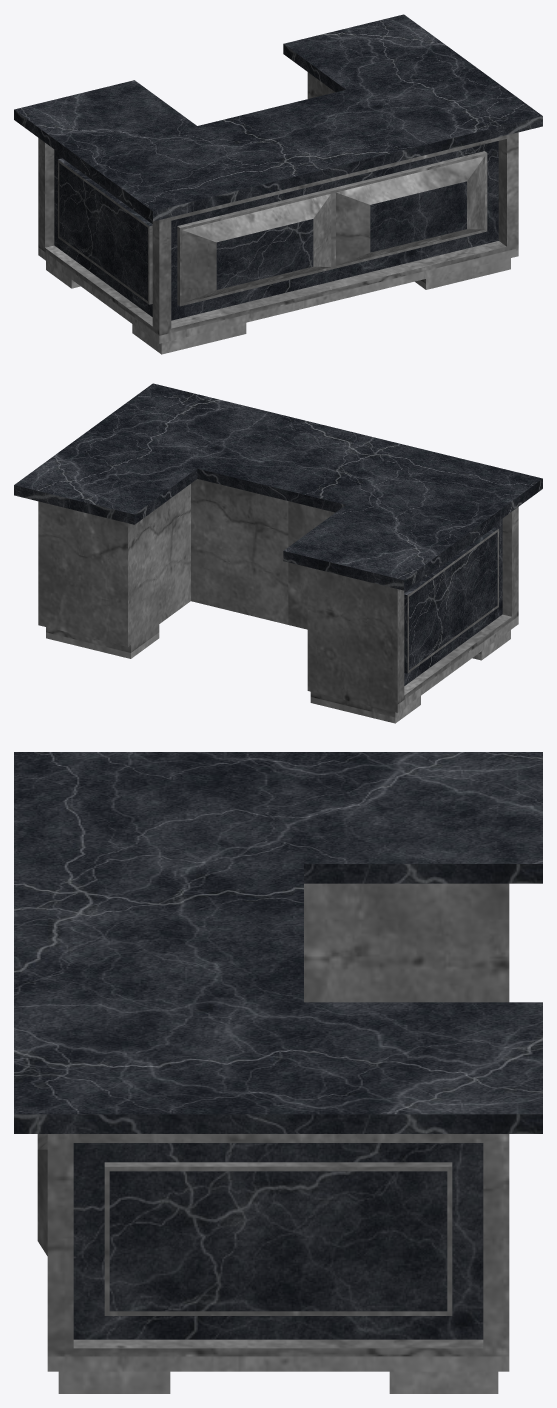
The model's file is desk.fbx.
3 renders of one model, top to bottom at view 1: azimuth 30°, elevation 25°; view 2: azimuth 150°, elevation 25°; view 3: azimuth 270°, elevation 25°, orthographic. The views are drawn at different scales.
Parts seen in each view (by area): view 1: polySurface1; view 2: polySurface1; view 3: polySurface1.
Part boxes in pixels (x1,y1,x2,y2): polySurface1: [14, 14, 542, 354]; polySurface1: [14, 383, 542, 723]; polySurface1: [14, 752, 542, 1393].
Bounding box in the file's own units: 10.6 × 4.07 × 6.54.
2 materials, 2 textured.
